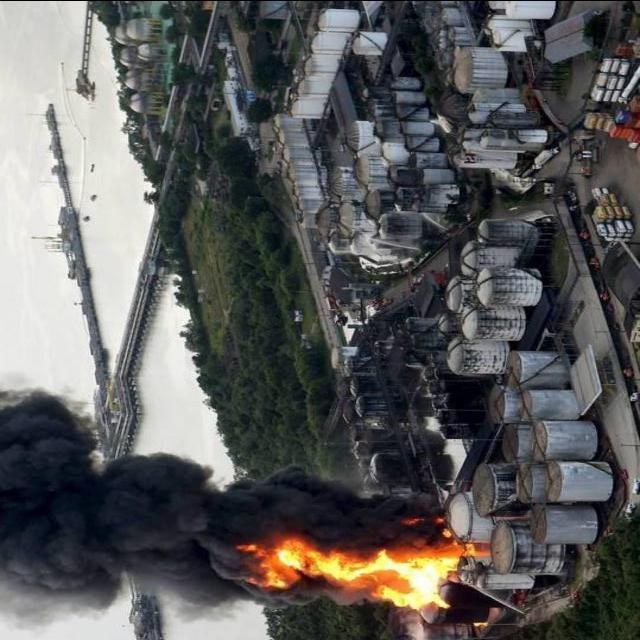Fire: (227, 518, 463, 616)
